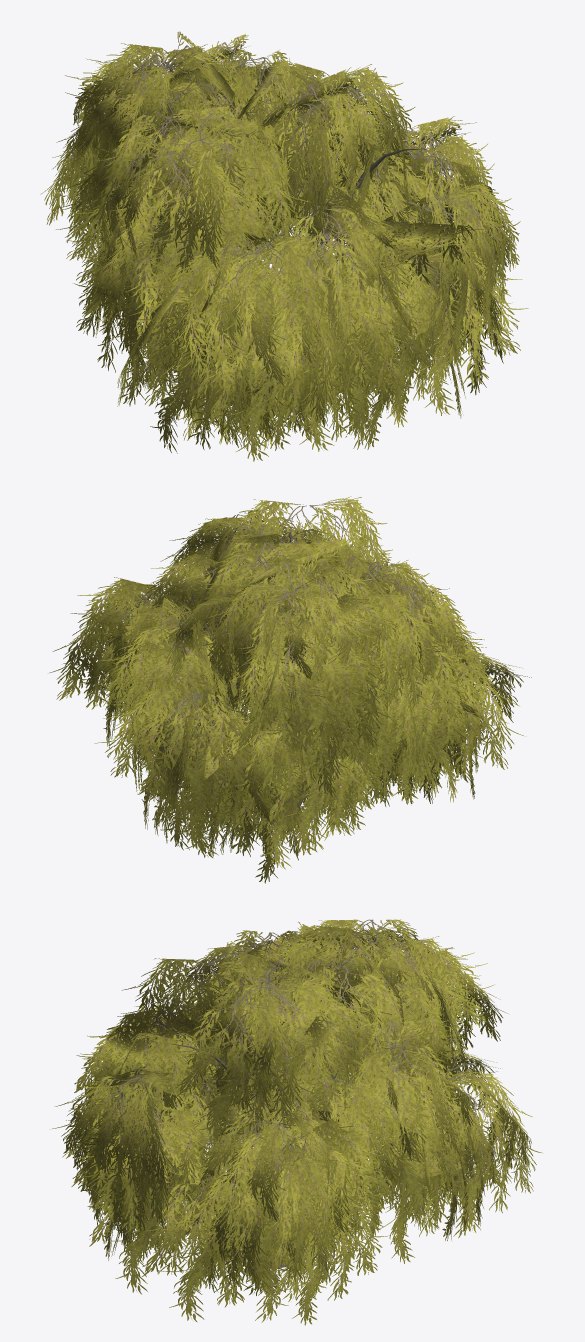
The model's file is Salix_Alba_Spring_Young.glb.
The picture shows the model from 3 angles, top to bottom: view 1: azimuth 30°, elevation 25°; view 2: azimuth 150°, elevation 25°; view 3: azimuth 270°, elevation 25°; orthographic projection. The views are drawn at different scales.
Visible parts, largest first — view 1: Salix_Alba_Spring_Young__LOD3; view 2: Salix_Alba_Spring_Young__LOD3; view 3: Salix_Alba_Spring_Young__LOD3.
Part boxes in pixels (x1,y1,x2,y2): Salix_Alba_Spring_Young__LOD3: (40,31,528,461); Salix_Alba_Spring_Young__LOD3: (49,496,531,883); Salix_Alba_Spring_Young__LOD3: (52,919,541,1325).
Size of the model in its own units: 14.5 by 9.11 by 14.76.
2 materials, 2 textured.
